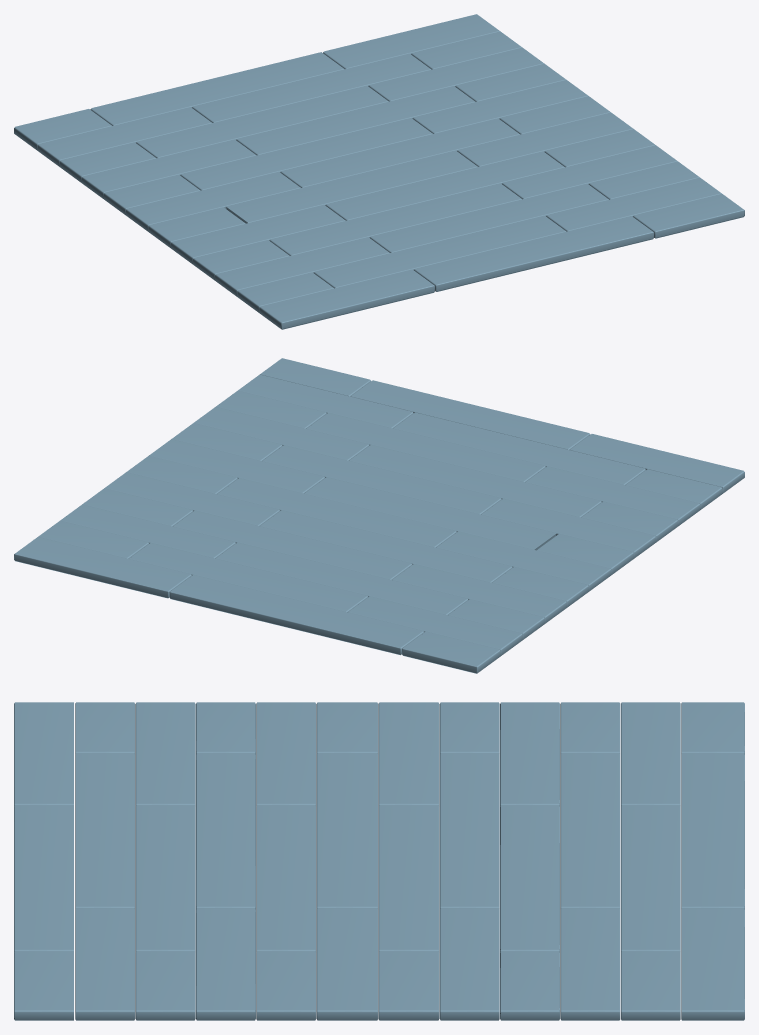
Rendered from Floor_13.glb.
3 renders of one model, top to bottom at view 1: azimuth 30°, elevation 25°; view 2: azimuth 150°, elevation 25°; view 3: azimuth 270°, elevation 25°, orthographic. The views are drawn at different scales.
Visible parts, largest first — view 1: Floor_13; view 2: Floor_13; view 3: Floor_13.
Part boxes in pixels (box(x1,y1,x2,y2)): Floor_13: box(14, 14, 744, 329); Floor_13: box(14, 358, 744, 673); Floor_13: box(14, 702, 744, 1020).
Bounding box in the file's own units: 5 × 0.08 × 4.99.
1 material, 1 textured.
